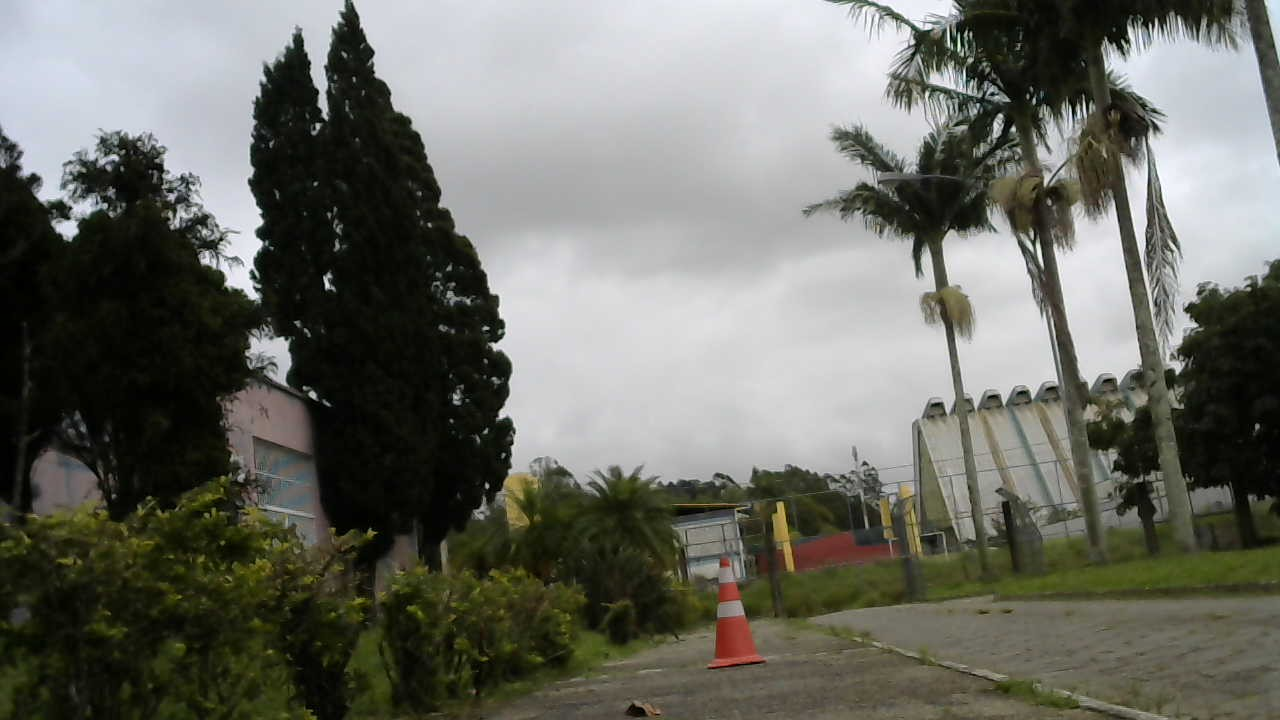cone: (710, 552, 763, 670)
